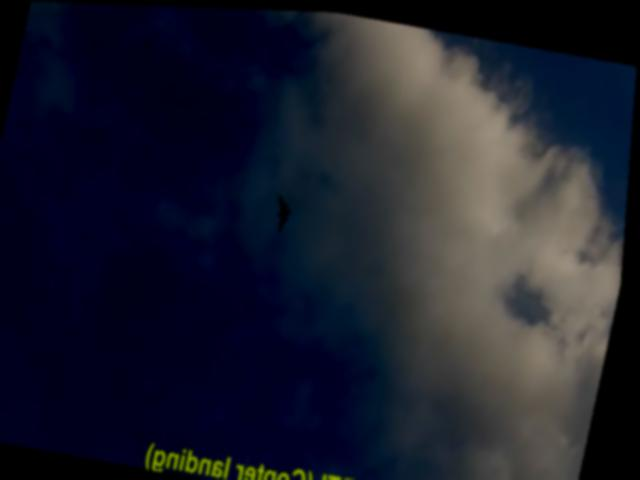plane: (273, 193, 297, 229)
